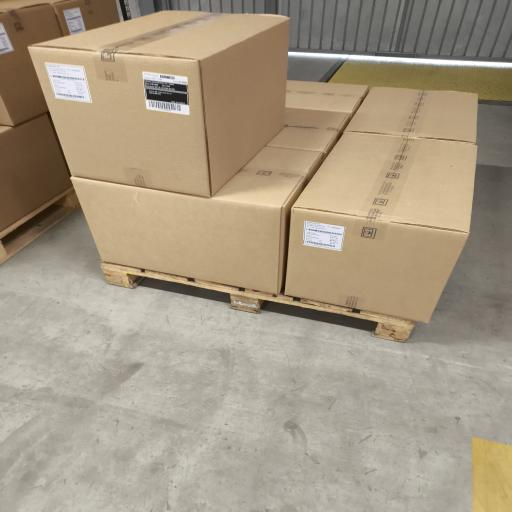pallet: (102, 262, 414, 342), (0, 187, 79, 264)
